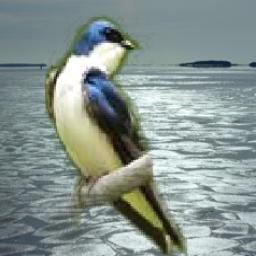Swallow: (45, 16, 187, 256)
